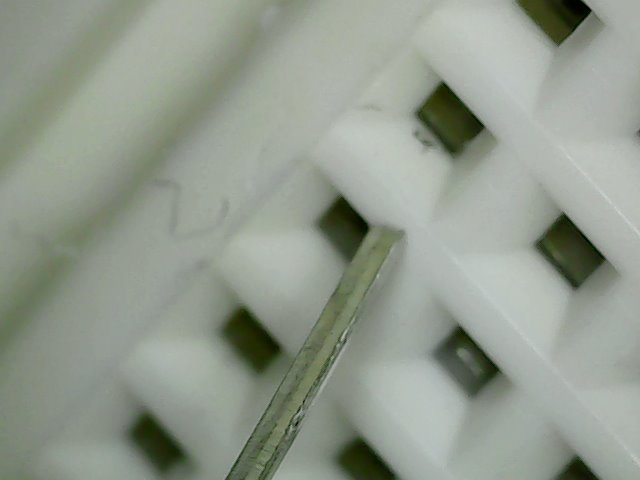faulty: (249, 157, 444, 318)
